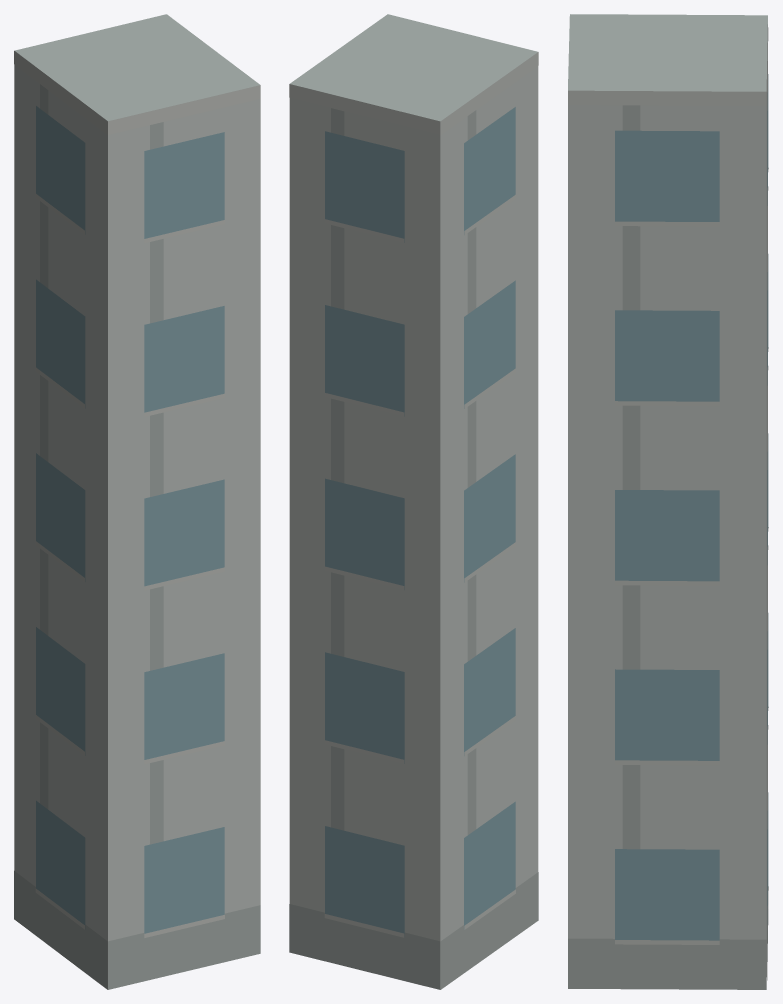
Rendered from survey-upis-32924290.glb.
3 views of the same model, side by side, from view 1: azimuth 30°, elevation 25°; view 2: azimuth 150°, elevation 25°; view 3: azimuth 270°, elevation 25° (orthographic). The views are drawn at different scales.
Visible parts, largest first — view 1: survey-upis-32924290.tmp; view 2: survey-upis-32924290.tmp; view 3: survey-upis-32924290.tmp.
Boxes of the visible parts, <box> form: survey-upis-32924290.tmp: <box>14,14,260,989</box>; survey-upis-32924290.tmp: <box>289,14,538,989</box>; survey-upis-32924290.tmp: <box>568,14,768,989</box>.
Size of the model in its own units: 2.84 by 15.25 by 3.1.
